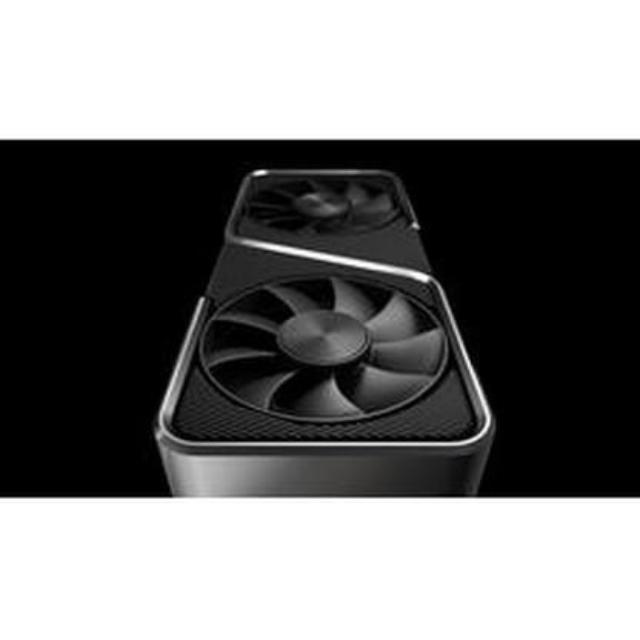GPU: (149, 155, 503, 498)
